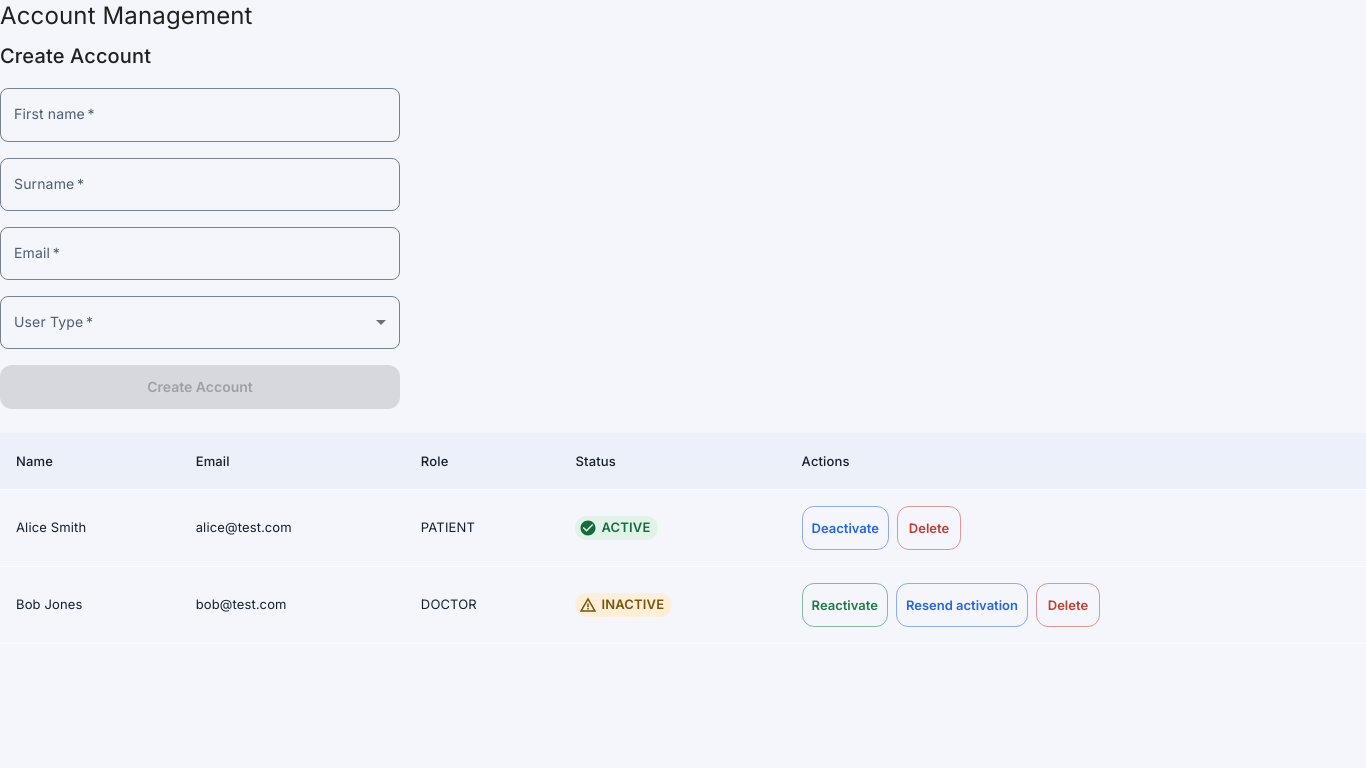
AccountsPage › SR-034.6 / ADR-0013: delete dialog shows email + type + lost-code warning text
Expected: the text "Alice Smith" is shown, [0,489,180,566]
Click the button "Delete" in the row of "Smith".
click(929, 528)  # box [897,506,961,550]
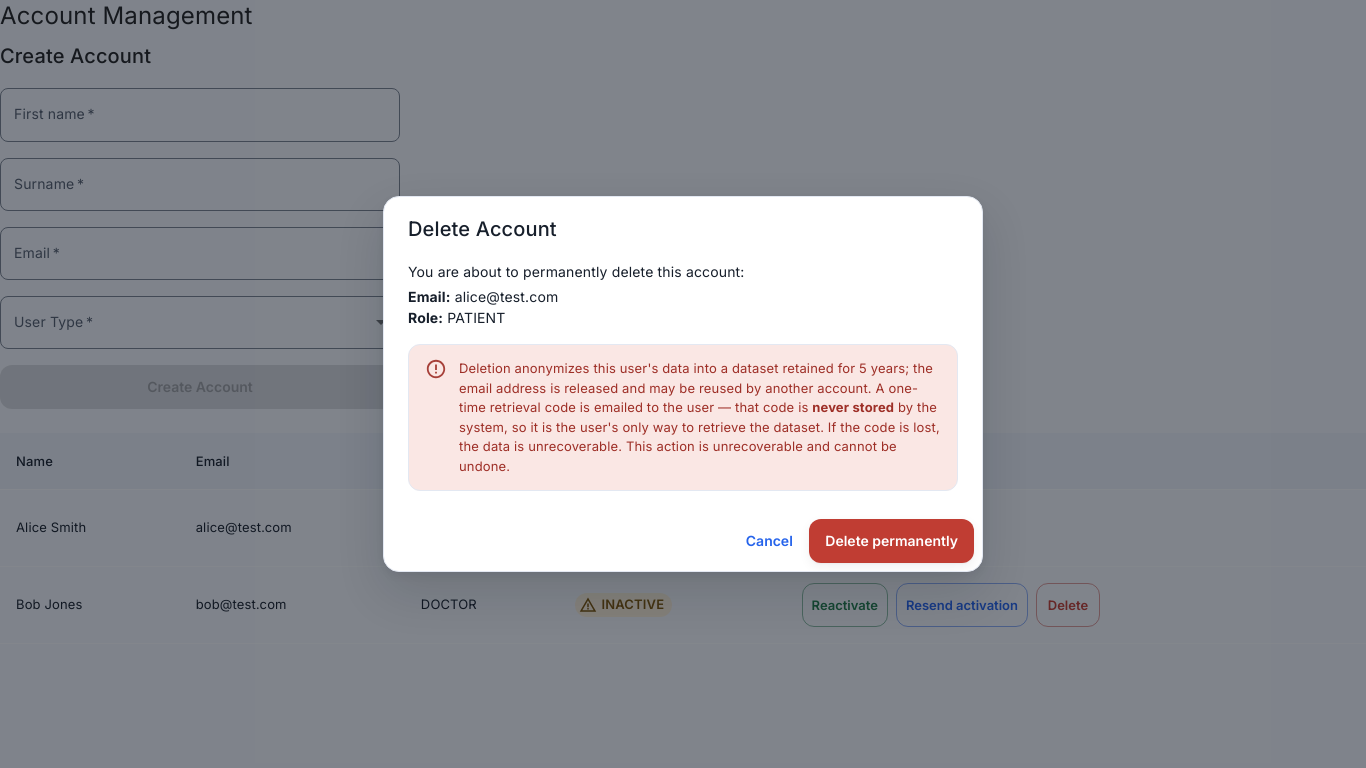
Expected: the dialog is shown, [383,196,983,572]
Expected: the text "Email: alice@test.com" is shown, [408,288,558,305]
Expected: the text "Role: PATIENT" is shown, [408,309,506,326]
